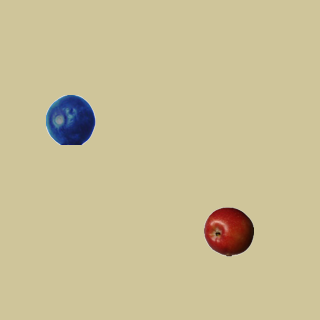Apple Braeburn: (203, 206, 253, 256)
Huckleberry: (45, 94, 95, 144)
